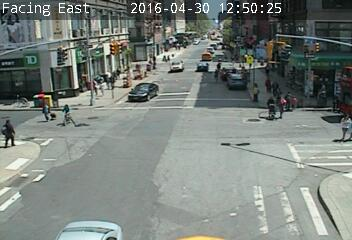neg: (55, 100, 74, 125), (60, 28, 79, 53), (182, 120, 200, 145), (142, 6, 160, 30), (139, 97, 157, 120), (69, 134, 86, 156), (313, 188, 329, 209), (305, 145, 321, 166), (35, 39, 51, 60), (249, 15, 263, 34), (105, 171, 119, 190), (236, 174, 250, 193), (275, 153, 289, 172), (209, 68, 223, 86), (171, 19, 185, 37), (179, 178, 192, 197), (192, 98, 206, 115), (115, 126, 128, 144), (216, 102, 229, 120), (172, 63, 185, 80), (94, 214, 107, 231), (95, 26, 107, 43), (324, 54, 336, 69), (254, 54, 266, 68), (302, 40, 313, 54), (232, 143, 243, 157), (309, 19, 318, 32), (208, 204, 217, 216), (130, 45, 139, 56), (203, 40, 211, 51), (215, 60, 223, 70), (278, 53, 286, 63), (151, 47, 159, 57), (151, 165, 159, 175), (208, 10, 214, 19), (141, 71, 147, 79), (40, 169, 45, 176), (140, 92, 143, 96)
pos: (310, 80, 334, 112), (257, 93, 281, 124), (38, 99, 56, 124), (335, 110, 351, 138), (273, 95, 289, 117), (101, 68, 117, 90), (283, 89, 298, 108), (90, 78, 104, 96), (249, 80, 262, 98), (269, 79, 282, 95), (261, 73, 273, 89), (278, 95, 289, 111)
